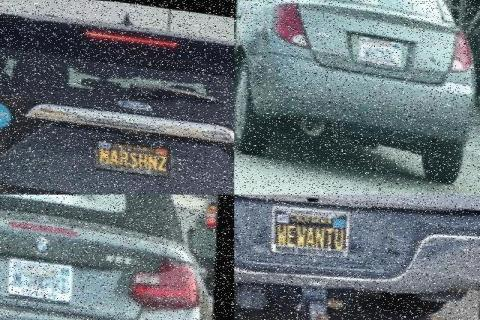LicensePlate: (261, 199, 353, 258), (0, 252, 70, 303), (85, 130, 168, 173), (352, 31, 404, 66)
